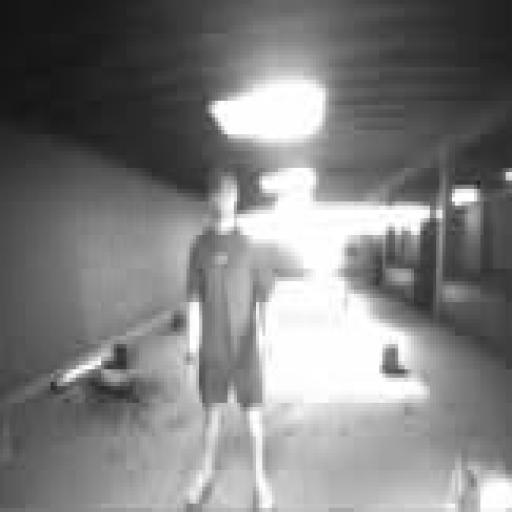human: (187, 168, 274, 511)
